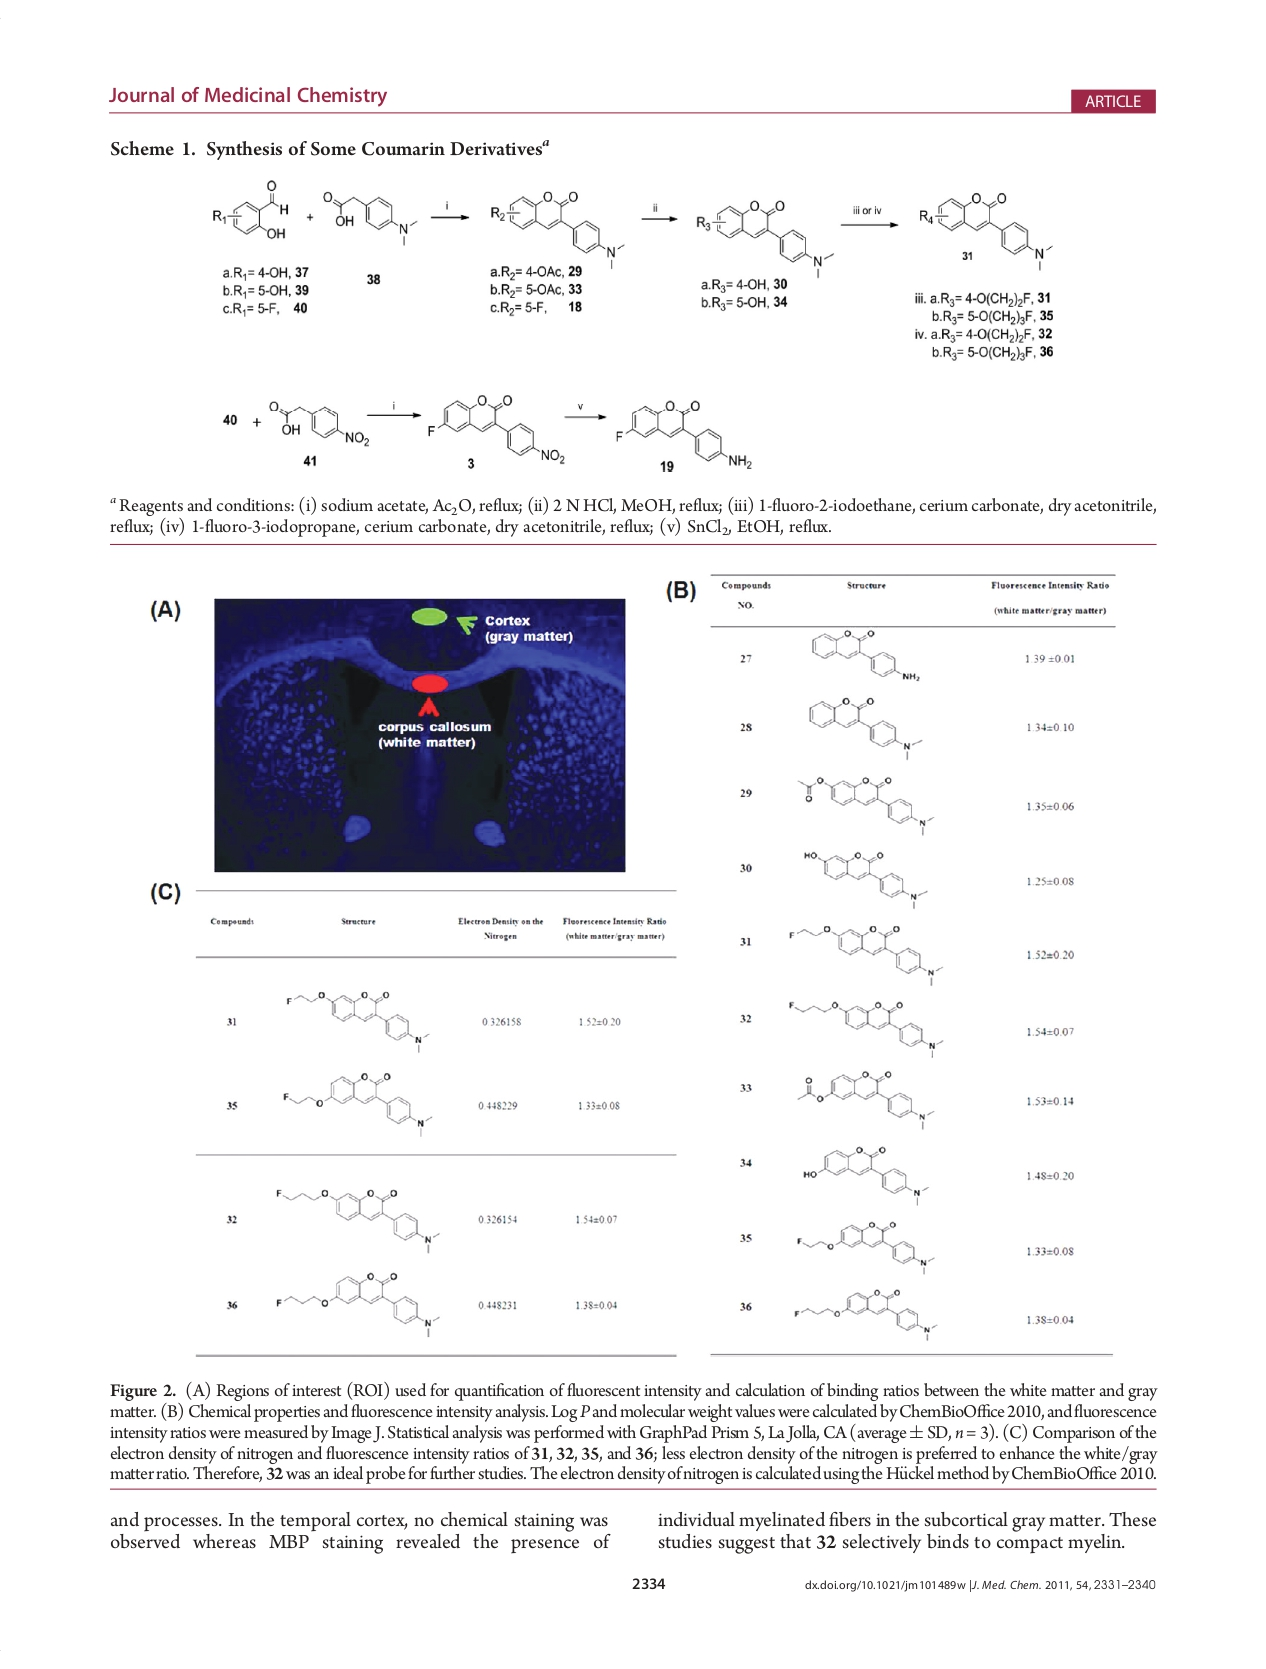exist_molecular: (273, 1182, 442, 1255), (485, 186, 628, 271), (274, 1270, 442, 1341), (696, 195, 832, 278), (916, 190, 1057, 270), (281, 1068, 435, 1140), (783, 920, 946, 987), (281, 983, 430, 1055), (422, 391, 567, 464), (785, 996, 946, 1061), (613, 396, 755, 469), (793, 1067, 936, 1132), (795, 774, 935, 838), (801, 1142, 934, 1208), (790, 1289, 942, 1343), (794, 1220, 938, 1277), (801, 848, 930, 910), (805, 694, 923, 761), (807, 628, 922, 684), (206, 176, 293, 249), (322, 186, 418, 246), (269, 394, 371, 447)
